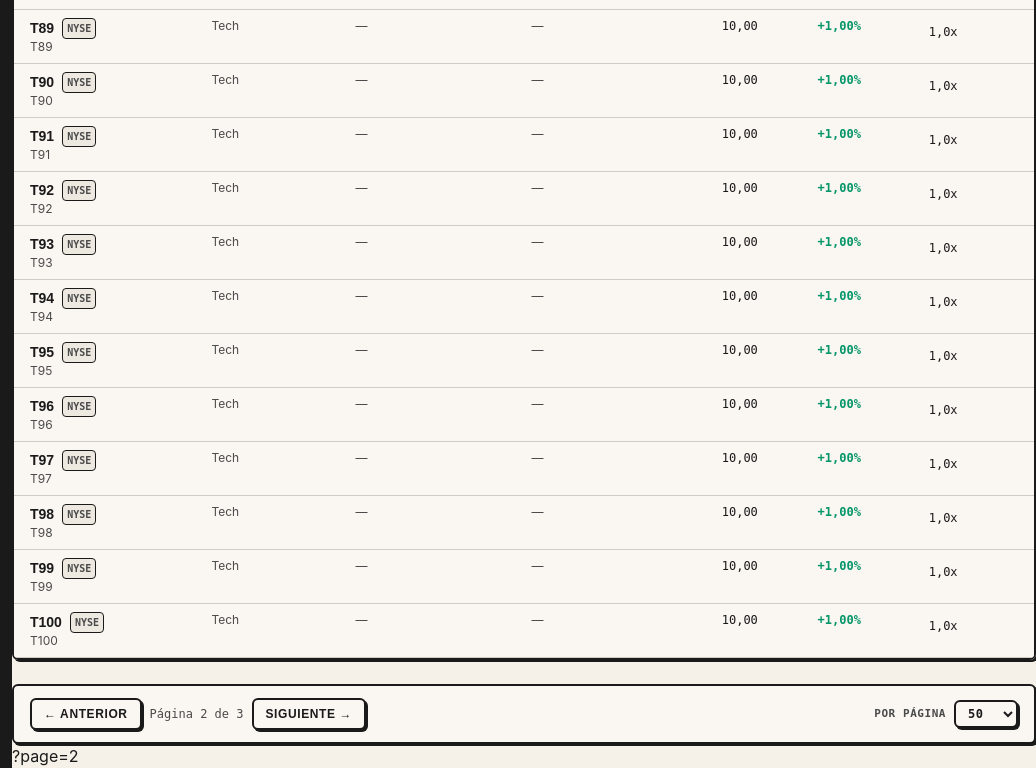
it: ScreenerPage pagination › changes the page size and restarts at page 1
The image size is (1036, 768).
(page scrolled)
Expected: the text "Página 2 de 3" is shown, [150, 706, 244, 722]
Select "100" in the dropdown labelled "Por página". click: (986, 714)
box: [954, 700, 1018, 728]
(page scrolled)
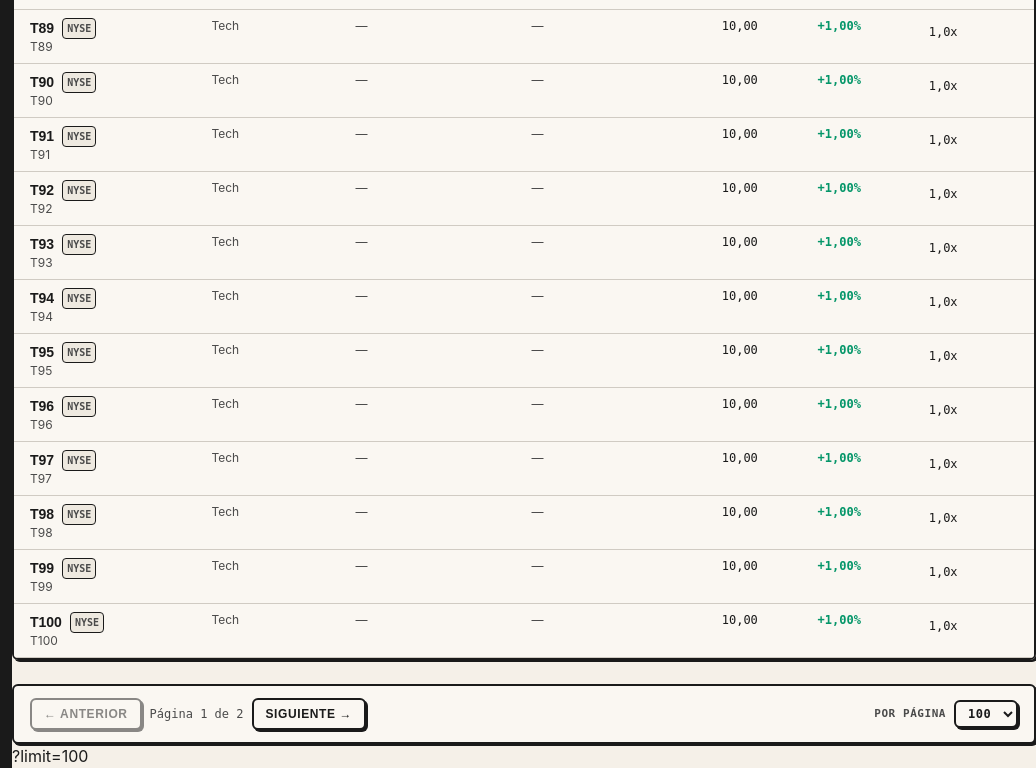
Expected: the text "Página 1 de 2" is shown, [150, 706, 244, 722]
Expected: the text with test id "url" reads "?limit=100", [12, 746, 88, 766]
